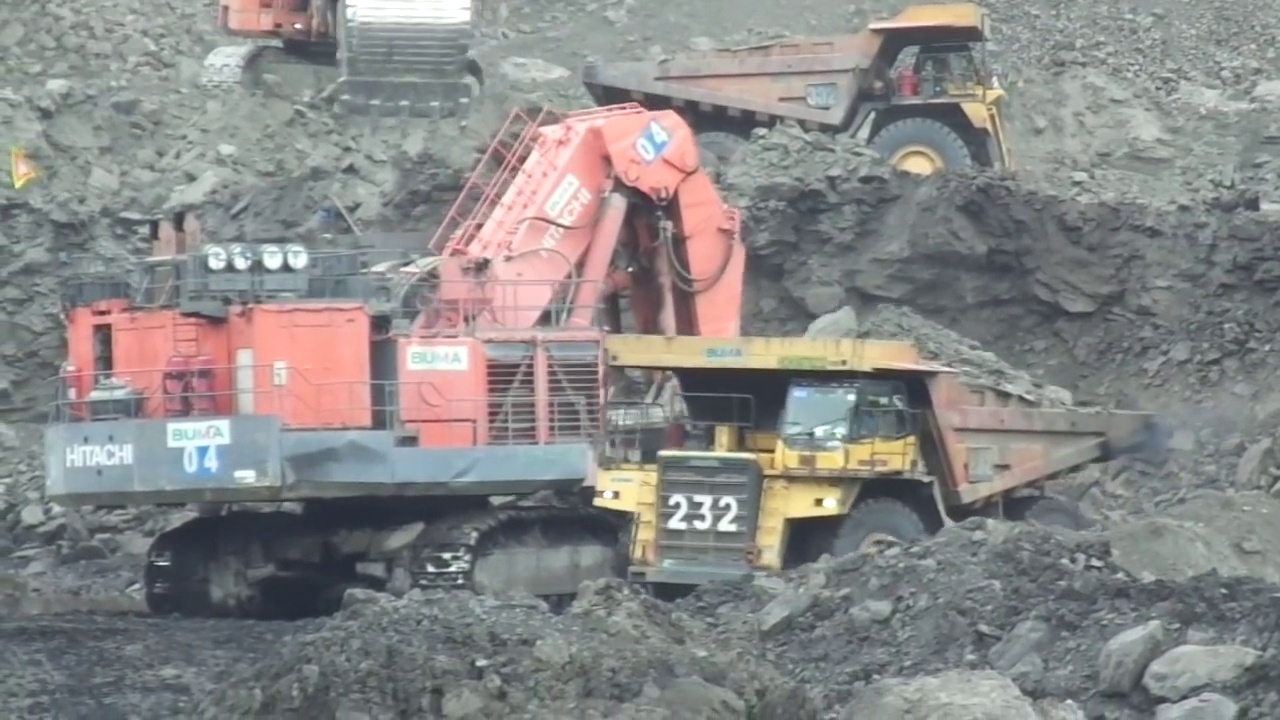dumper: (606, 330, 1153, 588), (592, 3, 1019, 192)
excavator: (47, 103, 749, 610), (213, 1, 477, 127)
